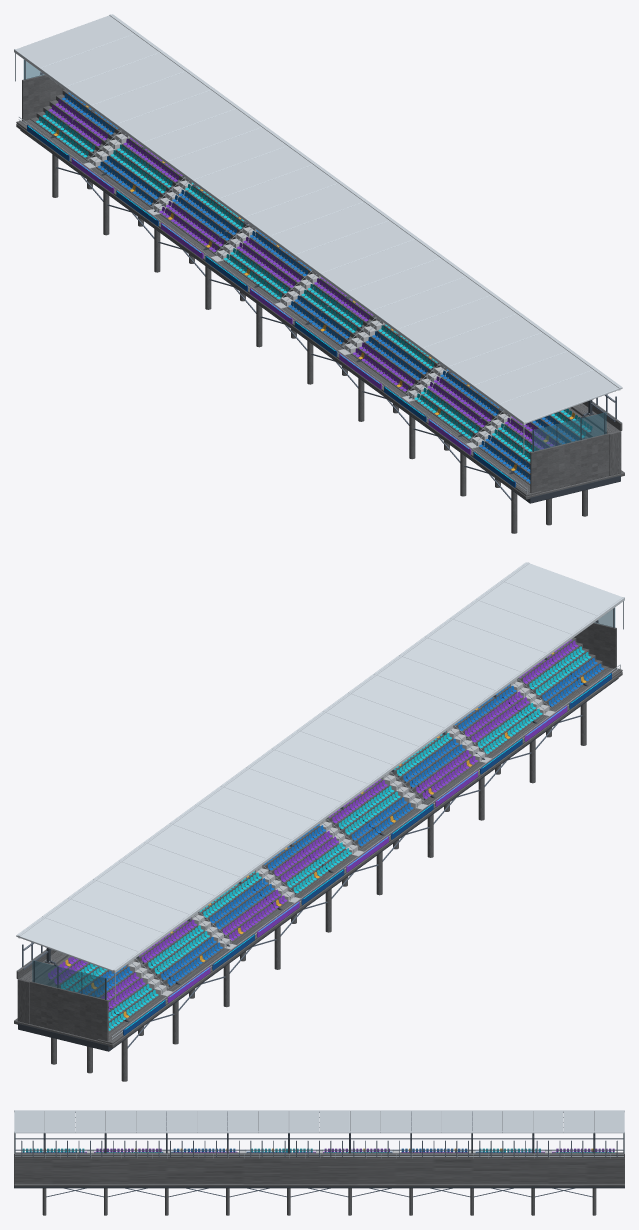
File: aiquiz_ocean_grandstand_optimized.glb
The picture shows the model from 3 angles, top to bottom: view 1: azimuth 30°, elevation 25°; view 2: azimuth 150°, elevation 25°; view 3: azimuth 270°, elevation 25°; orthographic projection. The views are drawn at different scales.
Visible parts, largest first — view 1: Grandstand_Roof, Grandstand_Concrete_Structure, Grandstand_Seats_LOD0, Grandstand_Aisle_Steps, Grandstand_Signage, Grandstand_Primary_Steel, Grandstand_Glass, Grandstand_Railings, Grandstand_Secondary_Steel; view 2: Grandstand_Roof, Grandstand_Concrete_Structure, Grandstand_Seats_LOD0, Grandstand_Aisle_Steps, Grandstand_Signage, Grandstand_Primary_Steel, Grandstand_Glass, Grandstand_Railings, Grandstand_Secondary_Steel; view 3: Grandstand_Concrete_Structure, Grandstand_Roof, Grandstand_Secondary_Steel, Grandstand_Primary_Steel, Grandstand_Seats_LOD0, Grandstand_Railings, Grandstand_Signage, Grandstand_Aisle_Steps.
Boxes of the visible parts, left/top/right/bottom form: Grandstand_Roof: left=14, top=14, right=622, bottom=425; Grandstand_Concrete_Structure: left=16, top=74, right=624, bottom=533; Grandstand_Seats_LOD0: left=36, top=92, right=592, bottom=483; Grandstand_Aisle_Steps: left=83, top=131, right=511, bottom=448; Grandstand_Signage: left=27, top=125, right=515, bottom=487; Grandstand_Primary_Steel: left=20, top=60, right=620, bottom=503; Grandstand_Glass: left=23, top=60, right=606, bottom=451; Grandstand_Railings: left=15, top=53, right=621, bottom=493; Grandstand_Secondary_Steel: left=40, top=72, right=616, bottom=500; Grandstand_Roof: left=16, top=562, right=624, bottom=973; Grandstand_Concrete_Structure: left=14, top=622, right=622, bottom=1081; Grandstand_Seats_LOD0: left=48, top=639, right=603, bottom=1030; Grandstand_Aisle_Steps: left=126, top=679, right=555, bottom=996; Grandstand_Signage: left=123, top=673, right=611, bottom=1035; Grandstand_Primary_Steel: left=18, top=608, right=618, bottom=1051; Grandstand_Glass: left=32, top=608, right=615, bottom=999; Grandstand_Railings: left=17, top=601, right=623, bottom=1039; Grandstand_Secondary_Steel: left=22, top=620, right=598, bottom=1048; Grandstand_Concrete_Structure: left=14, top=1133, right=624, bottom=1215; Grandstand_Roof: left=14, top=1110, right=624, bottom=1133; Grandstand_Secondary_Steel: left=15, top=1111, right=623, bottom=1197; Grandstand_Primary_Steel: left=14, top=1112, right=624, bottom=1188; Grandstand_Seats_LOD0: left=22, top=1148, right=614, bottom=1152; Grandstand_Railings: left=15, top=1151, right=623, bottom=1158; Grandstand_Signage: left=28, top=1151, right=611, bottom=1153; Grandstand_Aisle_Steps: left=87, top=1150, right=551, bottom=1153.
Bounding box in the file's own units: 18.39 × 24.93 × 160.
14 materials, 1 textured.
